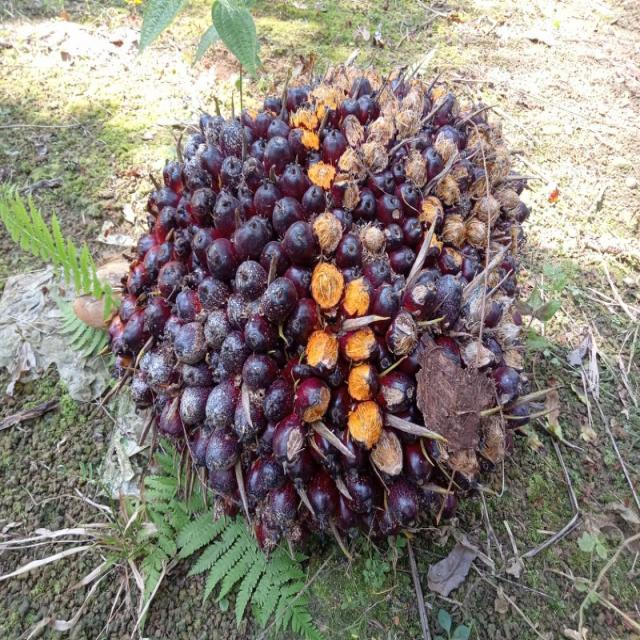fraksi 1: (98, 59, 551, 579)
